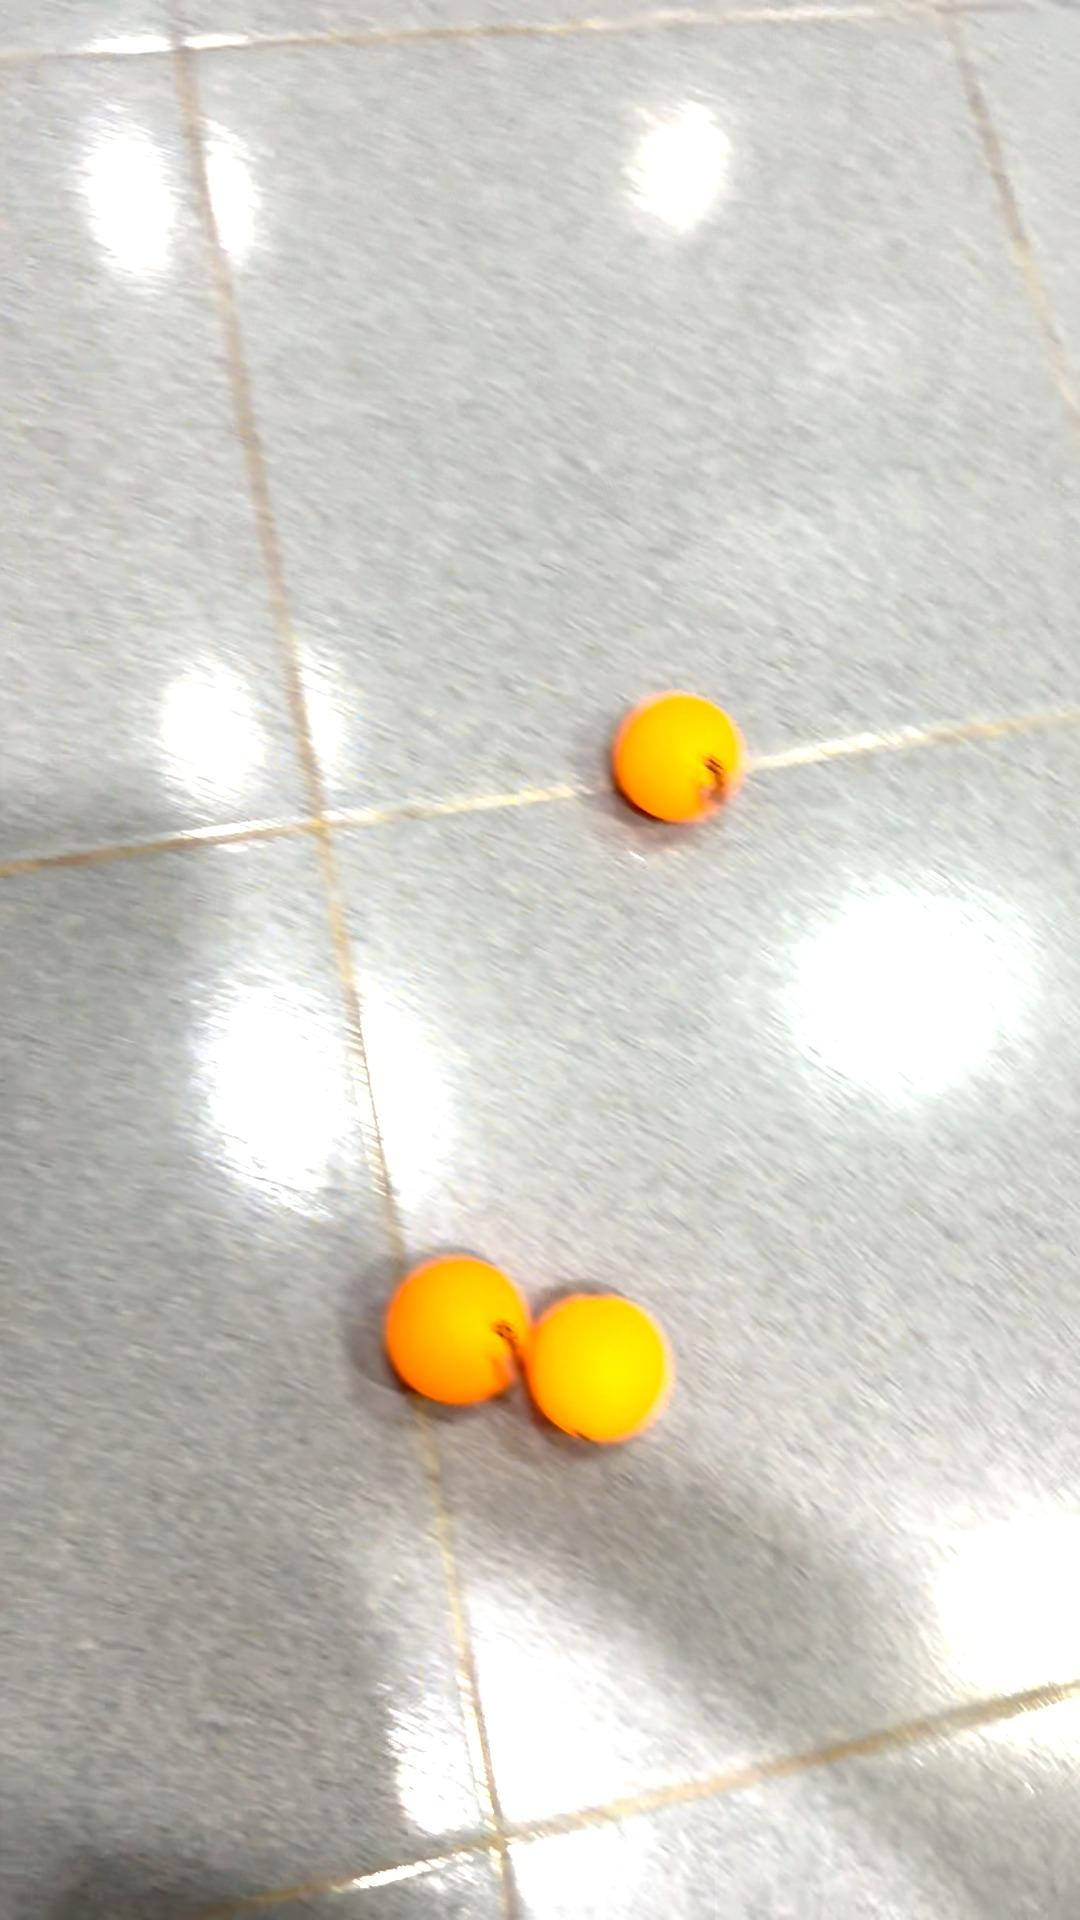oball: (522, 1282, 669, 1460), (604, 678, 756, 840), (385, 1247, 522, 1424)
